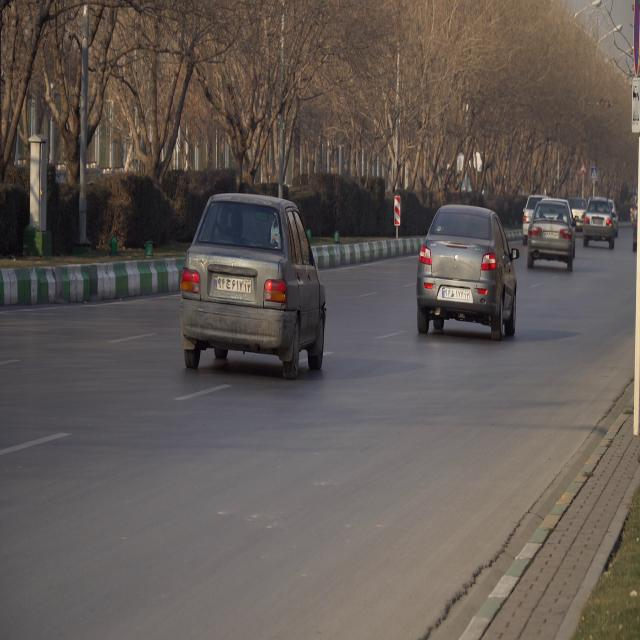truck: (182, 198, 325, 368), (418, 204, 520, 330), (526, 199, 572, 268), (584, 194, 616, 244)
